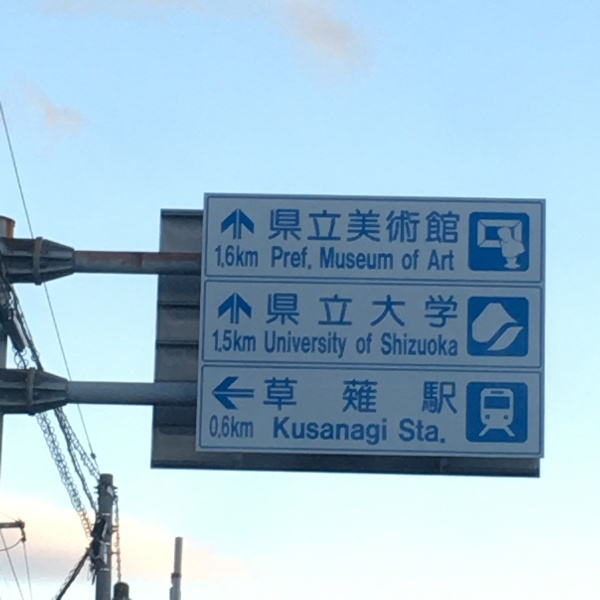text: (273, 377, 288, 416), (289, 377, 304, 416), (305, 377, 320, 416), (321, 377, 336, 416), (337, 377, 352, 416), (353, 377, 368, 416), (369, 377, 384, 416), (385, 377, 400, 416), (401, 377, 416, 416), (417, 377, 432, 416), (433, 377, 448, 416), (273, 207, 288, 245), (289, 207, 304, 245), (305, 207, 320, 245), (321, 207, 336, 245), (337, 207, 352, 245), (353, 207, 368, 245), (369, 207, 384, 245), (385, 207, 400, 245), (401, 207, 416, 245), (417, 207, 432, 245), (433, 207, 448, 245), (273, 294, 288, 331), (289, 294, 304, 331), (305, 294, 320, 331), (321, 294, 336, 331), (337, 294, 352, 331), (353, 294, 368, 331), (369, 294, 384, 331), (385, 294, 400, 331), (401, 294, 416, 331), (417, 294, 432, 331), (433, 294, 448, 331), (289, 416, 304, 447), (305, 416, 320, 447), (321, 416, 336, 447), (337, 416, 352, 447), (353, 416, 368, 447), (369, 416, 384, 447), (449, 207, 461, 245), (273, 330, 288, 360), (289, 330, 304, 360), (305, 330, 320, 360), (321, 330, 336, 360), (274, 416, 288, 447), (385, 331, 400, 358), (401, 331, 416, 358), (417, 331, 432, 358), (433, 331, 448, 358), (401, 418, 416, 445), (417, 418, 432, 445), (225, 329, 240, 356), (241, 329, 256, 356), (225, 415, 240, 441), (273, 246, 288, 271), (289, 246, 304, 271), (225, 245, 240, 270), (241, 245, 256, 270), (321, 247, 336, 271), (337, 247, 352, 271), (353, 247, 368, 271), (369, 247, 384, 271), (433, 418, 446, 445), (433, 250, 448, 273), (211, 415, 224, 441), (241, 415, 254, 441), (449, 294, 458, 331), (401, 249, 416, 271), (264, 377, 272, 416), (449, 377, 457, 416), (337, 330, 347, 360), (213, 329, 224, 356), (356, 332, 368, 356), (449, 331, 458, 358), (215, 245, 224, 270), (265, 330, 272, 360), (385, 247, 393, 271), (305, 246, 312, 271), (268, 294, 272, 331), (449, 250, 454, 273), (369, 332, 373, 356), (381, 331, 384, 358), (417, 249, 420, 271), (385, 416, 387, 447), (271, 207, 272, 245), (399, 418, 400, 445), (257, 245, 258, 270)
